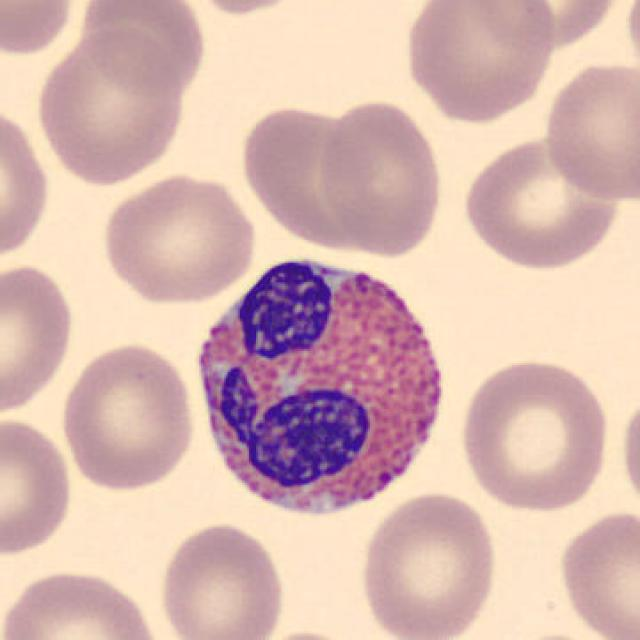Eosinophil: (183, 238, 464, 532)
Platelets: (502, 629, 612, 640)
RBC: (32, 23, 190, 189), (457, 354, 613, 515), (240, 99, 395, 254), (458, 132, 628, 272), (96, 169, 260, 307), (356, 488, 502, 640), (57, 338, 199, 494), (315, 95, 448, 259), (400, 0, 558, 127), (154, 520, 290, 640), (539, 56, 638, 205), (73, 0, 210, 97), (0, 564, 169, 640), (0, 258, 78, 420), (553, 506, 640, 640), (0, 414, 76, 558), (0, 100, 53, 264), (474, 0, 626, 51), (0, 0, 78, 60), (617, 386, 640, 520), (176, 0, 318, 18), (241, 627, 380, 640), (622, 0, 640, 86)
